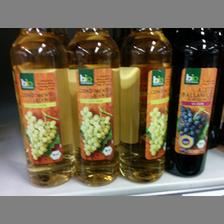Essig: (9, 25, 74, 186), (66, 25, 120, 185), (166, 29, 222, 177), (121, 28, 171, 180)
